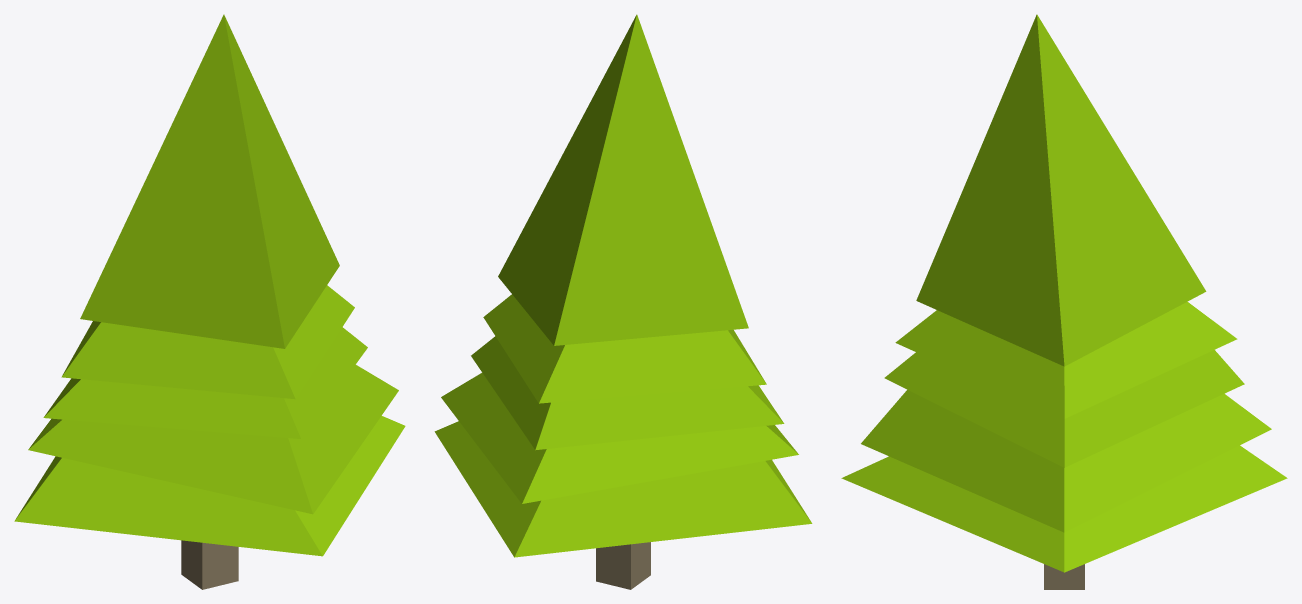
The model's file is pine_skewed_11.fbx.
3 views of the same model, side by side, from view 1: azimuth 30°, elevation 25°; view 2: azimuth 150°, elevation 25°; view 3: azimuth 270°, elevation 25° (orthographic). The views are drawn at different scales.
Parts seen in each view (by area): view 1: pine_skewed_11; view 2: pine_skewed_11; view 3: pine_skewed_11.
Part boxes in pixels (<box>): pine_skewed_11: <box>14,14,405,589</box>; pine_skewed_11: <box>434,14,812,589</box>; pine_skewed_11: <box>841,14,1287,589</box>.
Bounding box in the file's own units: 131 × 183 × 131.
